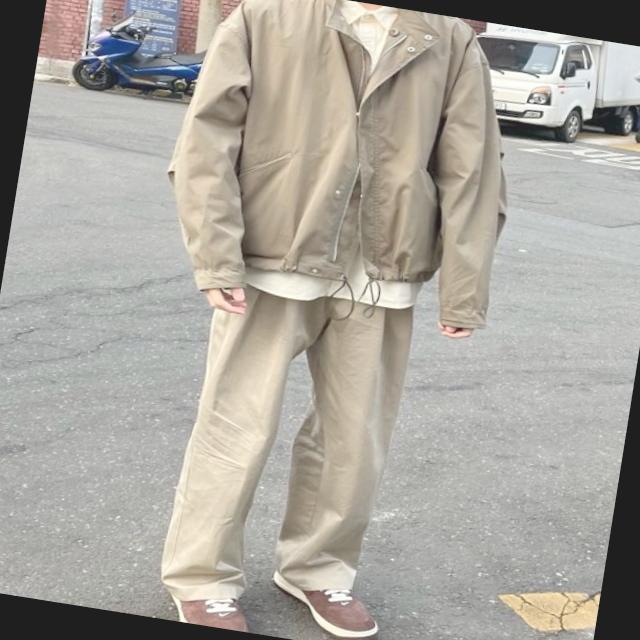cottonpants: (157, 268, 414, 626)
jacket: (151, 0, 537, 330)
